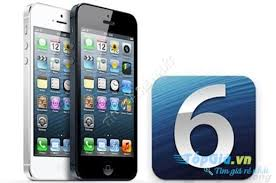iphone: (70, 2, 141, 179)
iphone5: (68, 1, 141, 183)
